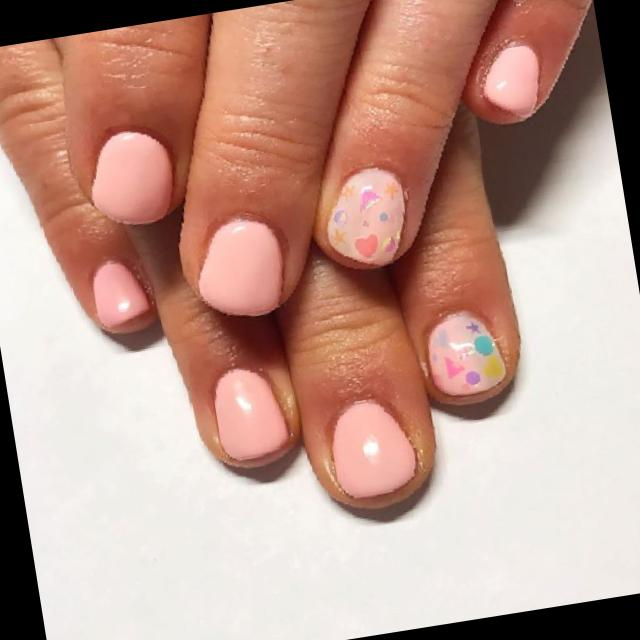Nail: (332, 400, 416, 498), (199, 219, 283, 316), (327, 168, 406, 265), (92, 131, 173, 224), (214, 369, 288, 461), (428, 312, 506, 396), (483, 45, 540, 118), (93, 262, 150, 328)
